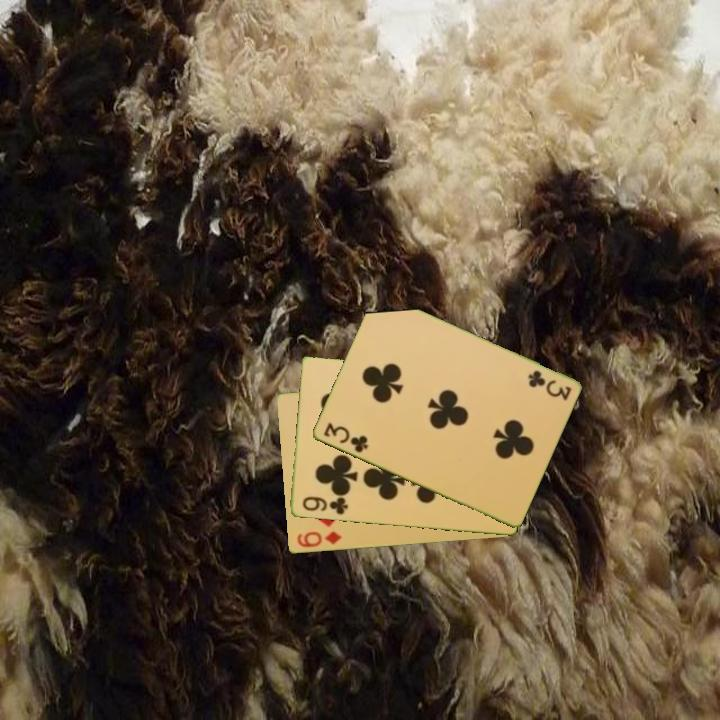3c: (320, 419, 371, 456), (524, 367, 574, 403)
6d: (293, 528, 344, 551)
9c: (298, 493, 351, 518)
